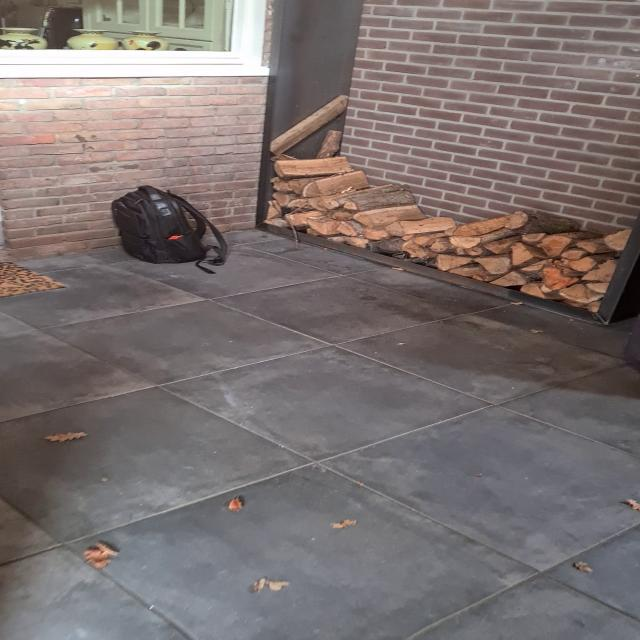backpack: (107, 183, 224, 268)
